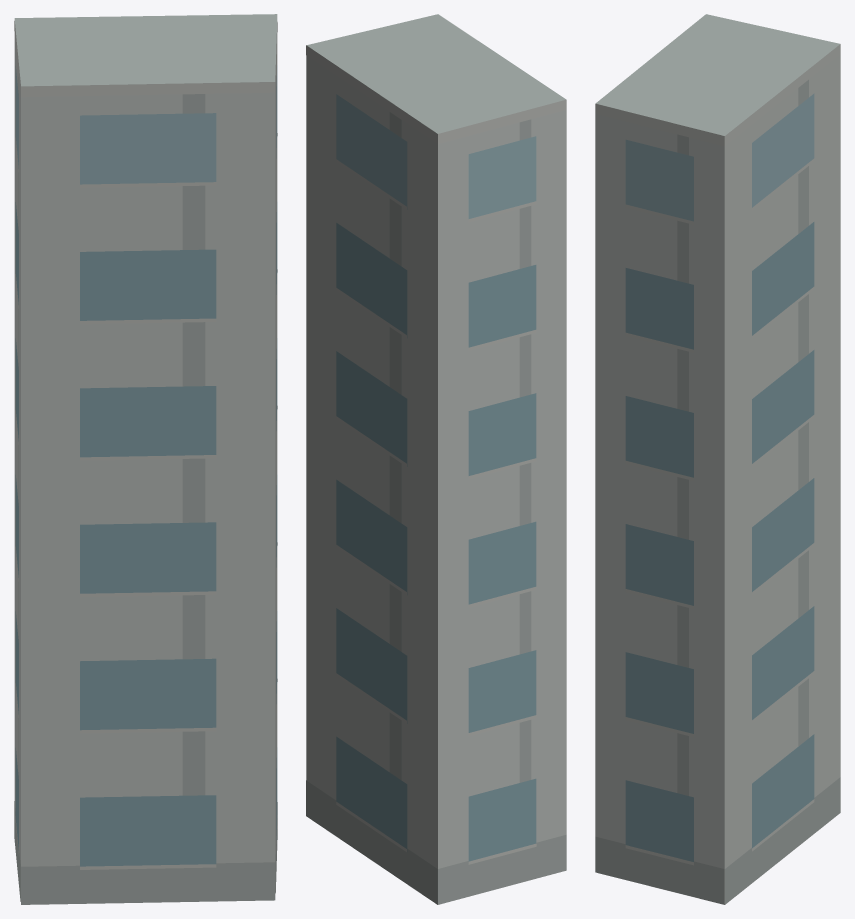
The model's file is survey-upis-32744934.glb.
3 views of the same model, side by side, from view 1: azimuth 30°, elevation 25°; view 2: azimuth 150°, elevation 25°; view 3: azimuth 270°, elevation 25° (orthographic). The views are drawn at different scales.
Visible parts, largest first — view 1: survey-upis-32744934.tmp; view 2: survey-upis-32744934.tmp; view 3: survey-upis-32744934.tmp.
Boxes of the visible parts, bbox=[...] form: survey-upis-32744934.tmp: bbox=[14, 14, 277, 904]; survey-upis-32744934.tmp: bbox=[306, 14, 566, 904]; survey-upis-32744934.tmp: bbox=[595, 14, 840, 904].
Bounding box in the file's own units: 6.24 × 18.3 × 5.3.
